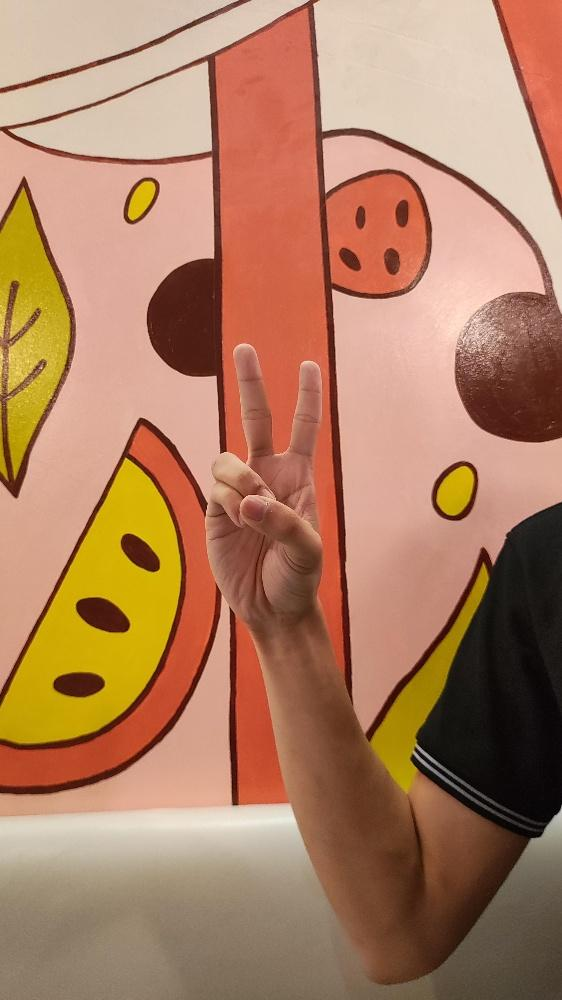v: (202, 341, 325, 625)
